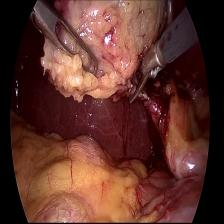Grasper: (32, 5, 102, 82)
Scissors: (125, 35, 162, 108)
